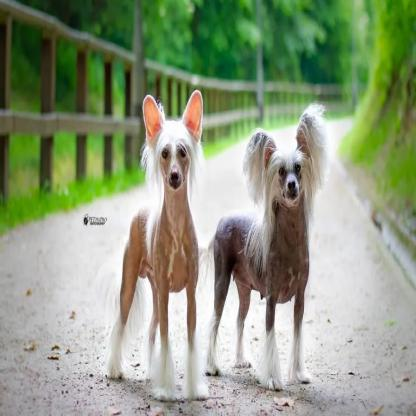Chinese Crested: (212, 79, 333, 386), (113, 68, 213, 389)
